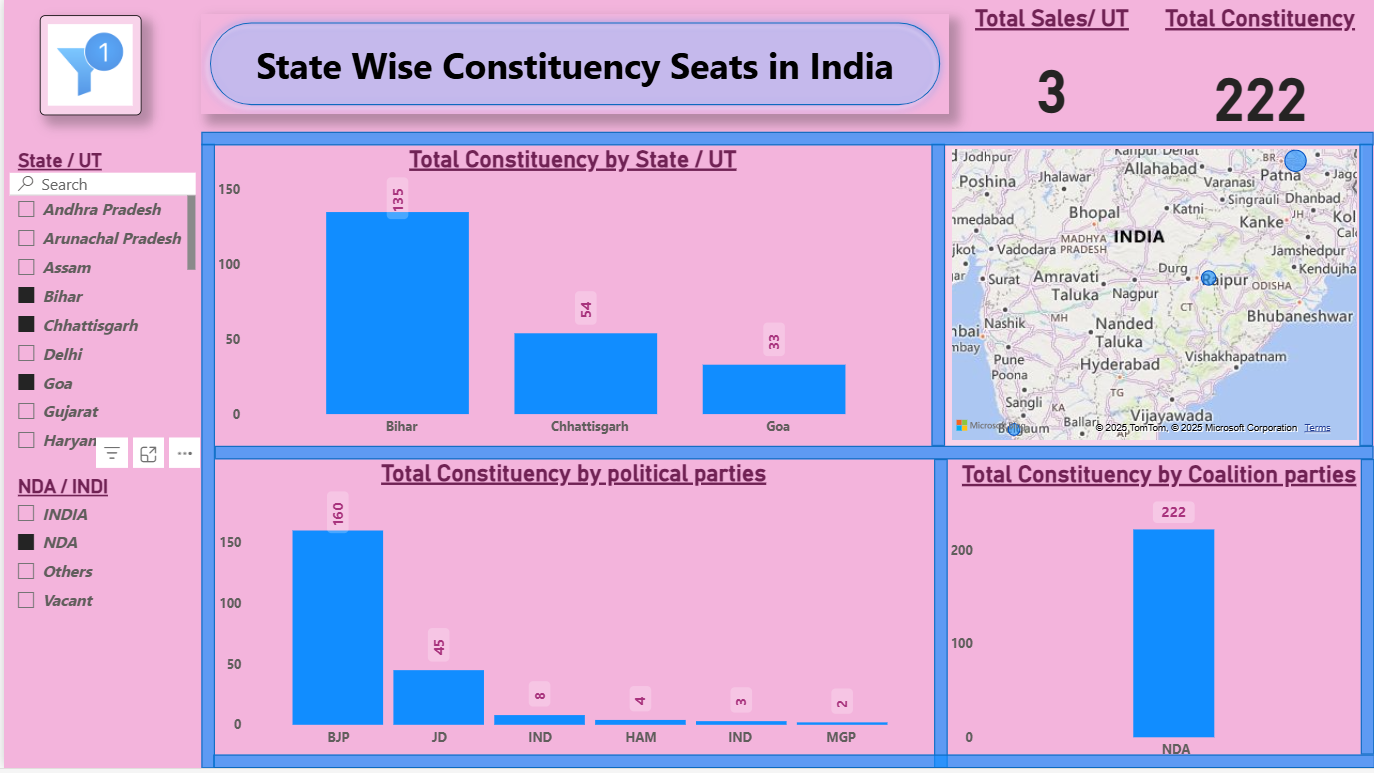

What the dashboard file says about the page in this screenshot:
{"tool":"powerbi","page":{"name":"Page 1","canvas":[1280,720],"ordinal":0},"visuals":[{"type":"card","title":"Total Sales/ UT","fields":{"Values":["Count(Data.State / UT)"]},"box":[879.2,6.3,200.4,123.5],"z":0},{"type":"card","title":"Total Constituency","fields":{"Values":["Sum(Data.Total Constituency)"]},"box":[1066.8,6.3,213,137.4],"z":1000},{"type":"clusteredColumnChart","title":"Total Constituency by political parties","fields":{"Y":["Sum(Data.Total Constituency)"],"Category":["Data.Party"]},"box":[195.8,430.7,673.4,278],"z":2000},{"type":"map","fields":{"Category":["Data.State / UT"],"Size":["Sum(Data.Total Constituency)"]},"box":[879.7,136.1,389.5,282.3],"z":3000},{"type":"clusteredColumnChart","title":"Total Constituency by State / UT","fields":{"Category":["Data.State / UT"],"Y":["Sum(Data.Total Constituency)"]},"box":[195,137.7,674.3,281.1],"z":4000},{"type":"clusteredColumnChart","title":"Total Constituency by Coalition parties","fields":{"Y":["Sum(Data.Total Constituency)"],"Category":["Data.NDA / INDI"]},"box":[879.4,431.6,400.6,288.4],"z":5000},{"type":"slicer","fields":{"Values":["Data.State / UT"]},"box":[0,136.1,184,292.4],"z":6000},{"type":"slicer","fields":{"Values":["Data.NDA / INDI"]},"box":[0,441.1,184,210.5],"z":7000},{"type":"shape","box":[184,136.1,12.6,583.5],"z":8000},{"type":"shape","box":[867.1,136.1,12.6,282.3],"z":9000},{"type":"shape","box":[184,124.8,1095.3,12.6],"z":10000},{"type":"shape","box":[196.6,418.4,1082.7,12.6],"z":11000},{"type":"shape","box":[869.7,431,12.6,288.6],"z":12000},{"type":"shape","box":[195.4,707.1,1085.2,12.6],"z":13000},{"type":"shape","box":[1266.7,136.1,12.6,282.3],"z":14000},{"type":"shape","box":[1267.9,431,12.6,276],"z":15000},{"type":"shape","box":[184,15.1,698.2,93.3],"z":15001},{"type":"image","box":[33.9,15.7,95.3,94],"z":15002}]}

Visuals, with their boxes in screenshot pixels (x1, y1, x2, y2), scaled from the page's 1280x720 canvas onto the 1374x773 screenshot:
"Total Sales/ UT" card: 944/7/1159/139
"Total Constituency" card: 1145/7/1373/154
"Total Constituency by political parties" clusteredColumnChart: 210/462/933/761
map - Data.State / UT x Sum(Data.Total Constituency): 944/146/1362/449
"Total Constituency by State / UT" clusteredColumnChart: 209/148/933/450
"Total Constituency by Coalition parties" clusteredColumnChart: 944/463/1373/772
slicer - Data.State / UT: 0/146/198/460
slicer - Data.NDA / INDI: 0/474/198/700
shape: 198/146/211/772
shape: 931/146/944/449
shape: 198/134/1373/148
shape: 211/449/1373/463
shape: 934/463/947/772
shape: 210/759/1373/772
shape: 1360/146/1373/449
shape: 1361/463/1373/759
shape: 198/16/947/116
image: 36/17/139/118
